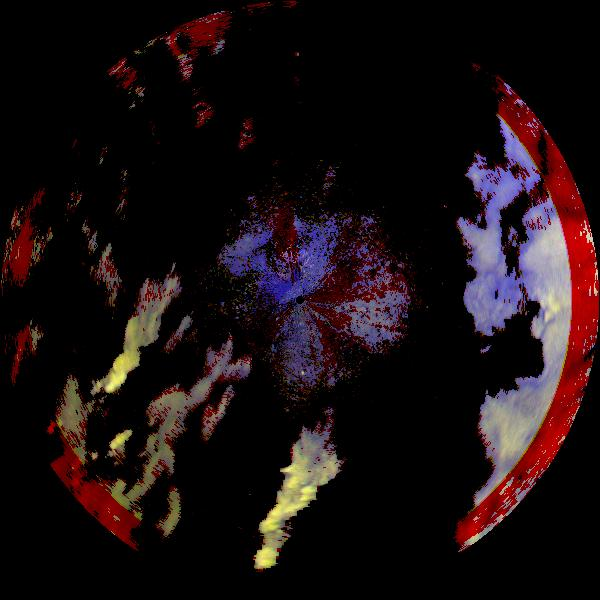roost: (299, 369, 308, 378)
